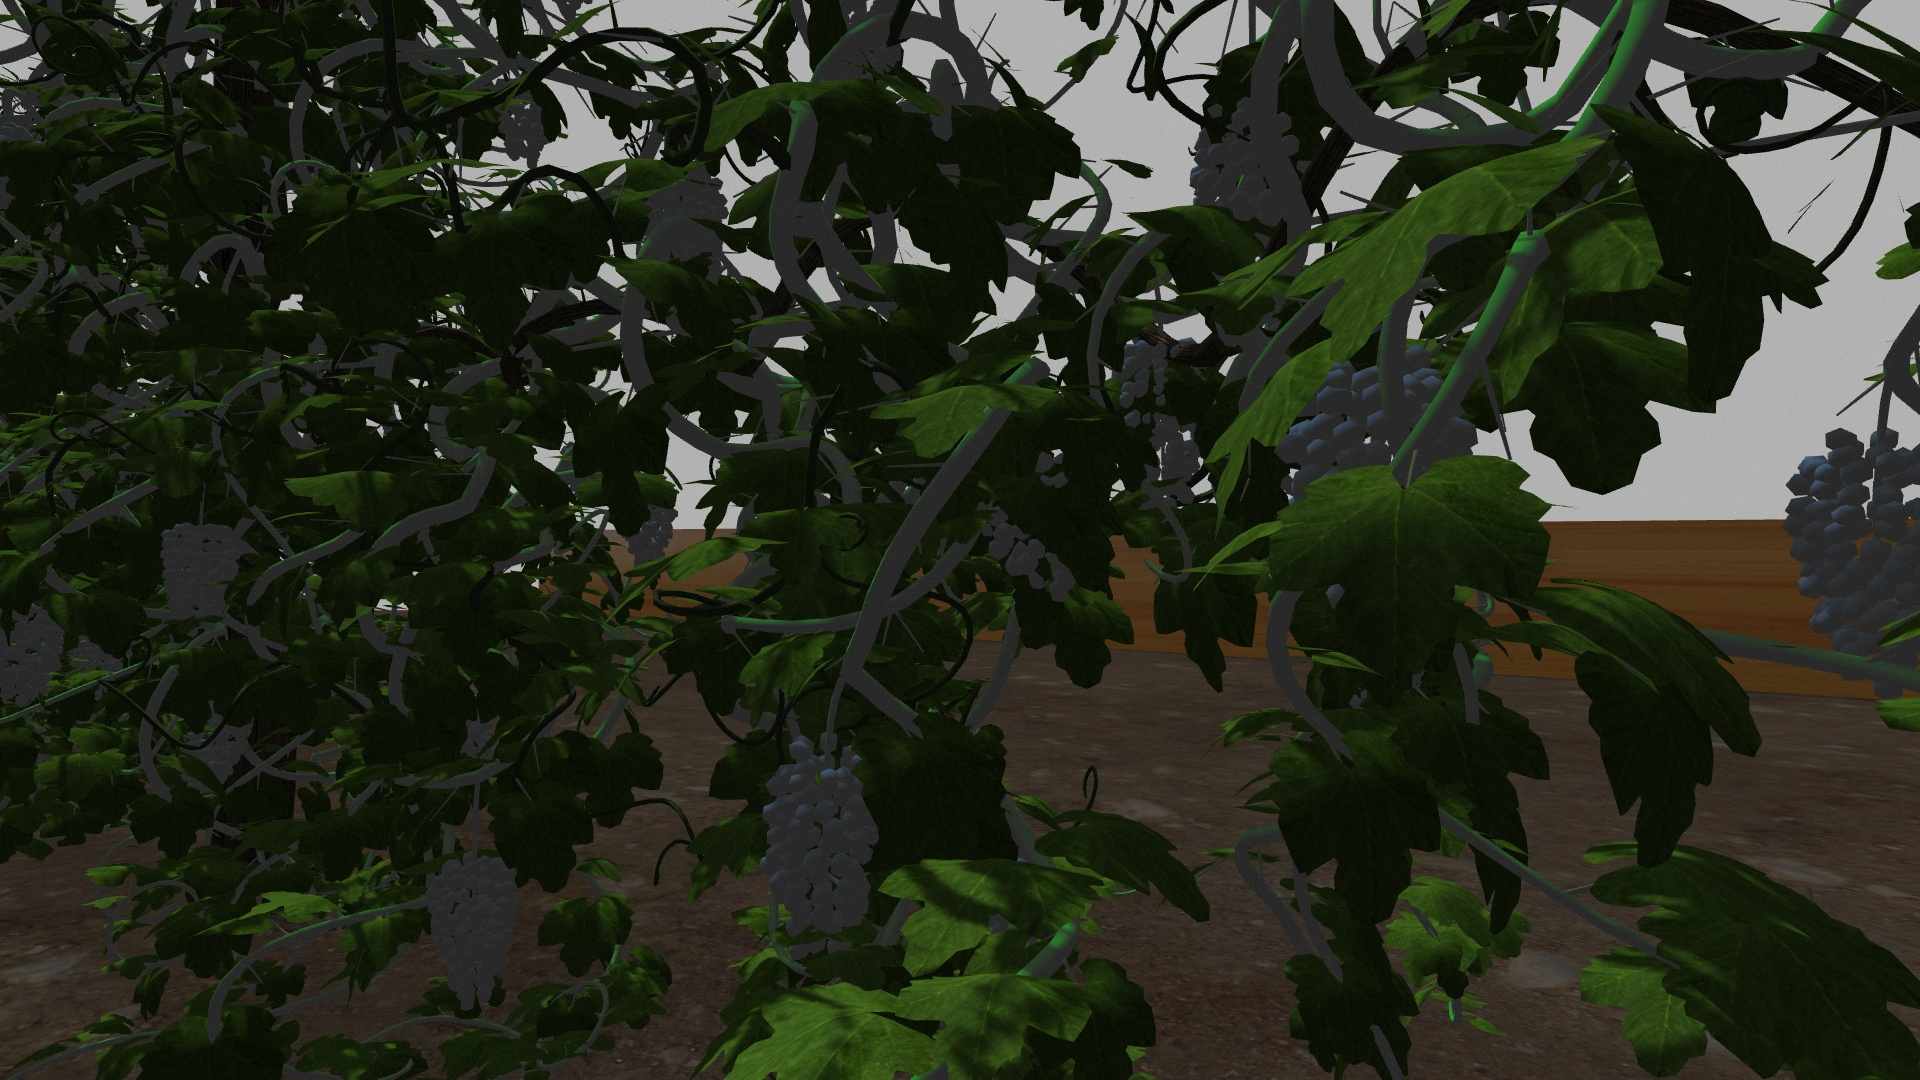grape: (1785, 429, 1913, 655), (1287, 356, 1480, 498), (762, 731, 880, 957), (422, 810, 526, 1010), (1189, 94, 1305, 225), (645, 164, 729, 281), (156, 520, 243, 621), (498, 100, 551, 166)
